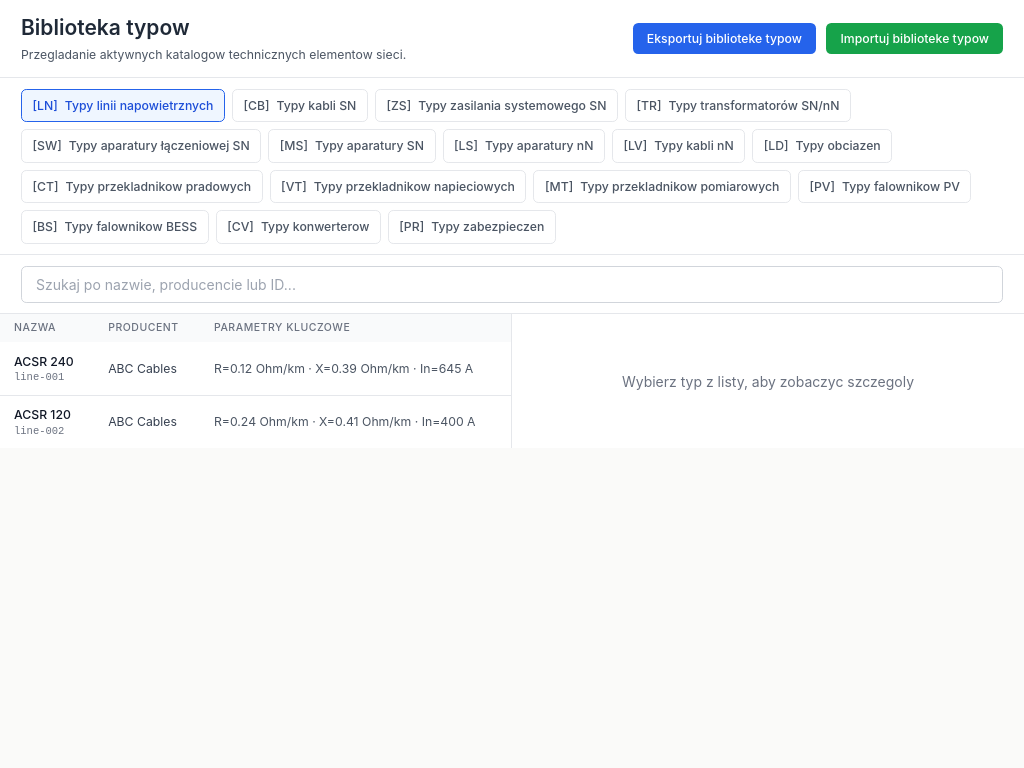
Test: TypeLibraryBrowser › switches to a generic category and renders generic details
The image size is (1024, 768).
Click the button "[ZS]Typy zasilania systemowego SN" at (496, 105), box [375,88,618,122]
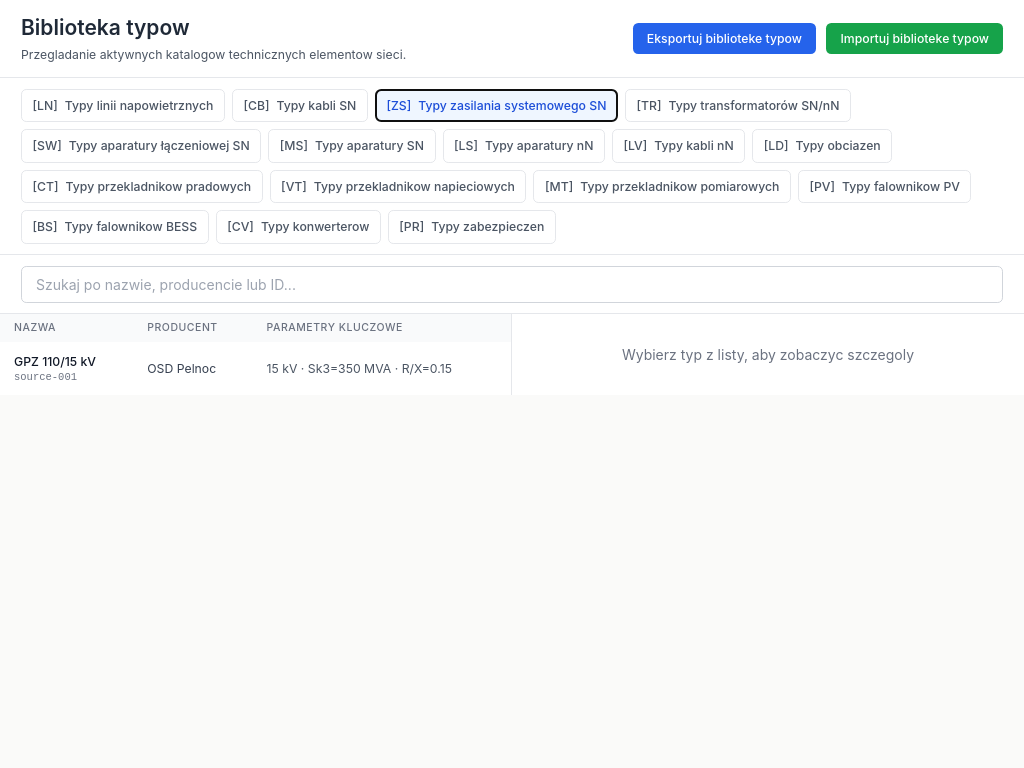
Click the text "GPZ 110/15 kV" at (55, 361), box [14,354,96,368]
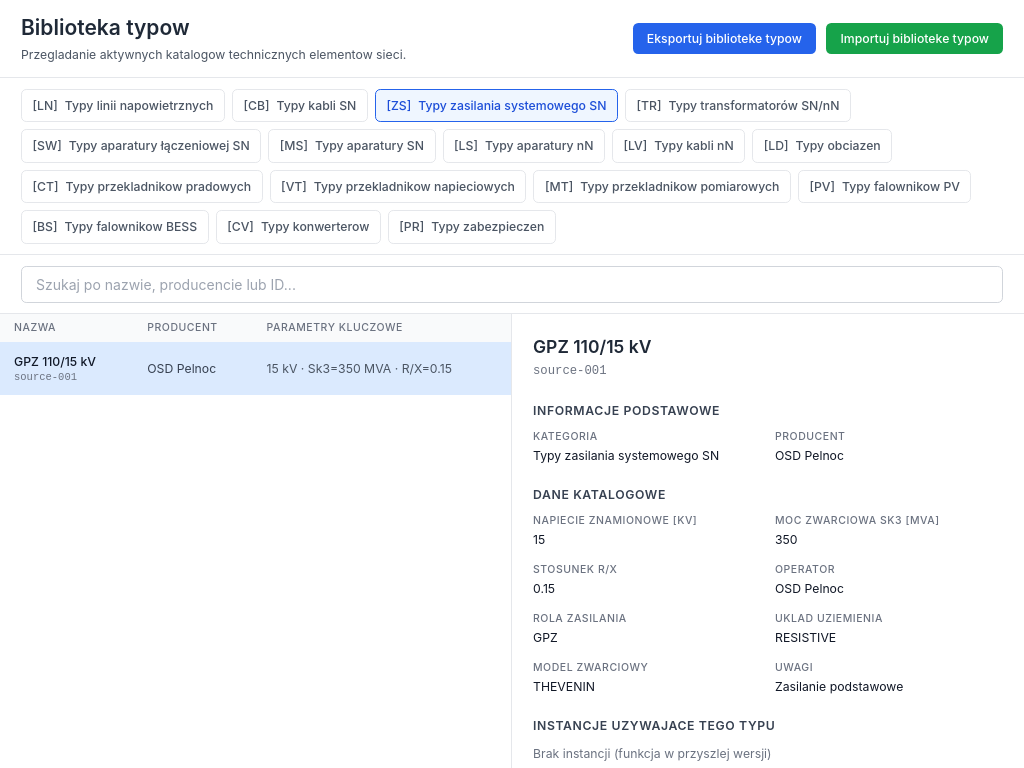
Result: the heading "Informacje podstawowe" is shown at [533,402,720,418]
Result: the heading "Dane katalogowe" is shown at [533,486,666,502]
Result: the text "Operator" is shown at [775,562,835,576]
